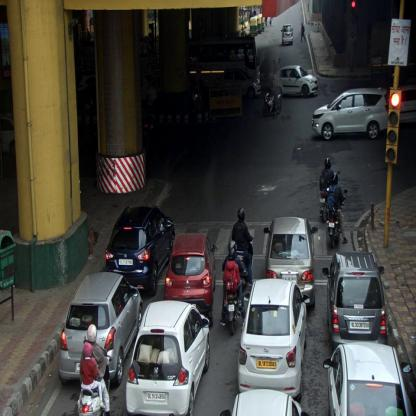bus: (188, 37, 260, 88)
car: (58, 271, 144, 389), (126, 300, 211, 415), (236, 278, 310, 399), (323, 342, 415, 416), (106, 205, 176, 297), (322, 251, 389, 345), (164, 232, 217, 328), (264, 216, 317, 310), (312, 86, 388, 137), (272, 65, 318, 98), (219, 70, 262, 100), (280, 23, 295, 48)
motorcycle: (78, 324, 111, 415), (221, 240, 244, 335), (232, 206, 254, 290), (327, 174, 350, 246), (319, 156, 340, 224), (263, 84, 282, 116)
